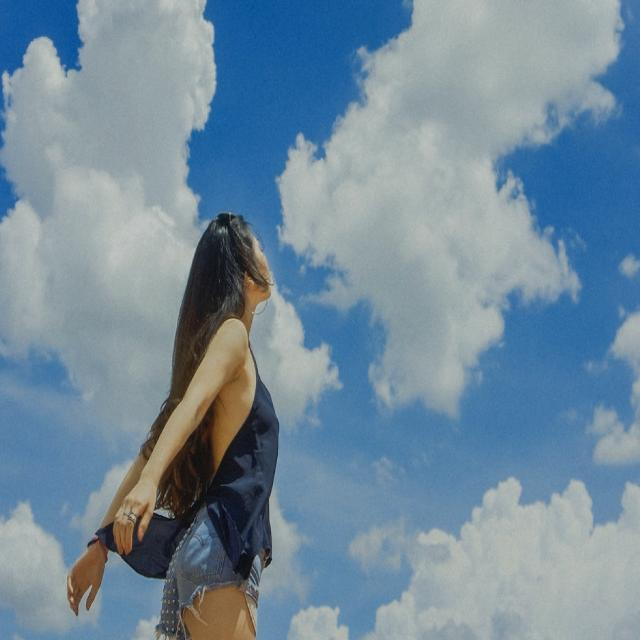piel: (57, 236, 272, 616), (179, 578, 260, 640)
